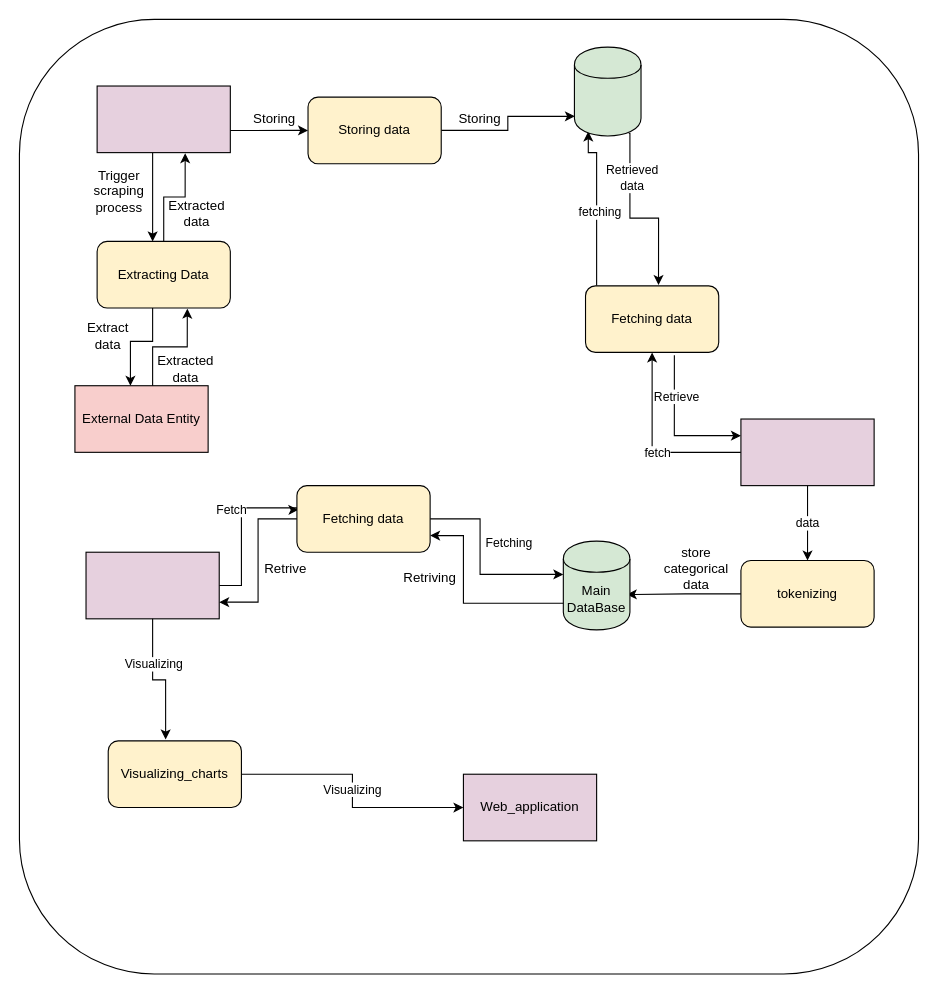
Some shapes in this 938 by 993 pixel diagram are drawn without their labels. The centre of each missing label's shape, as x and y in pixels:
NLP_model: the point at 807,452
Raw_data storage: the point at 607,91
Scraping_model: the point at 163,119
Visualization_model: the point at 152,585
